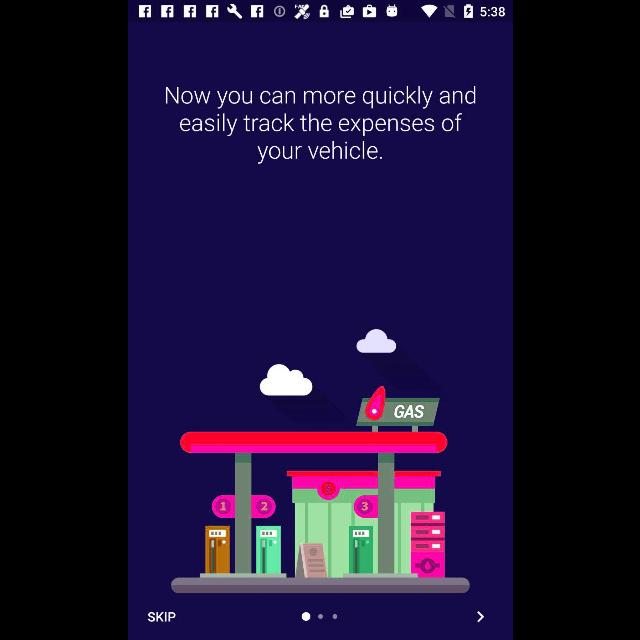icon: (476, 611, 484, 623)
image: (170, 328, 470, 594)
pageindicator: (301, 612, 337, 620)
text: (164, 86, 476, 164), (147, 612, 175, 622)
uppertaskbar: (128, 1, 512, 23)
